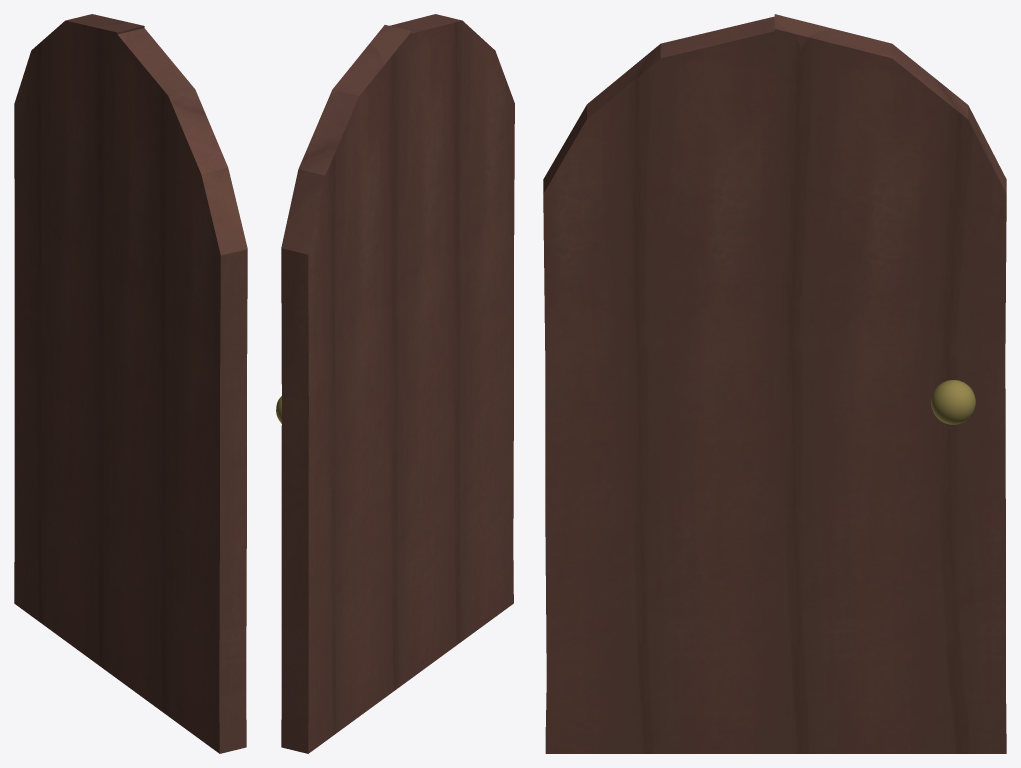
The model's file is door.fbx.
3 renders of one model, left to right at view 1: azimuth 30°, elevation 25°; view 2: azimuth 150°, elevation 25°; view 3: azimuth 270°, elevation 25°, orthographic. The views are drawn at different scales.
Visible parts, largest first — view 1: pasted__pSphere1; view 2: pasted__pSphere1; view 3: pasted__pSphere1.
Part boxes in pixels (left/top/right/bottom): pasted__pSphere1: left=14, top=14, right=247, bottom=753; pasted__pSphere1: left=276, top=14, right=514, bottom=753; pasted__pSphere1: left=543, top=14, right=1006, bottom=753.
Size of the model in its own units: 0.6238 by 7.22 by 4.18.
